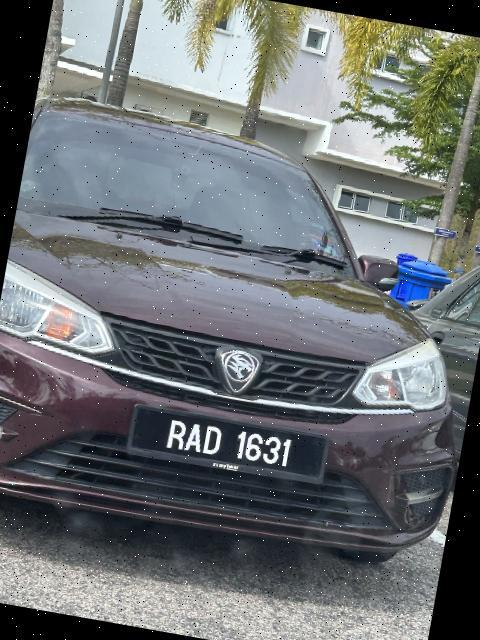License_Plate: (122, 402, 332, 488)
RAD1631: (122, 402, 332, 488)
car: (1, 94, 480, 581)
